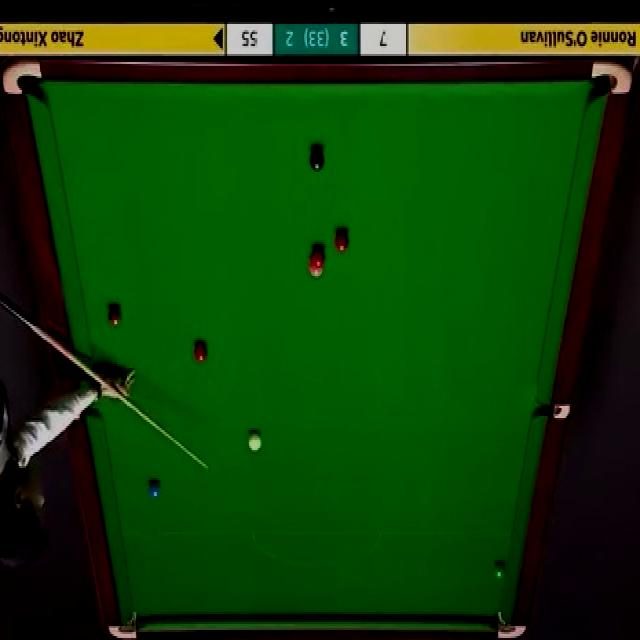pocket: (589, 57, 635, 95), (3, 60, 46, 98), (108, 608, 140, 640), (493, 611, 528, 640), (536, 403, 572, 420)
